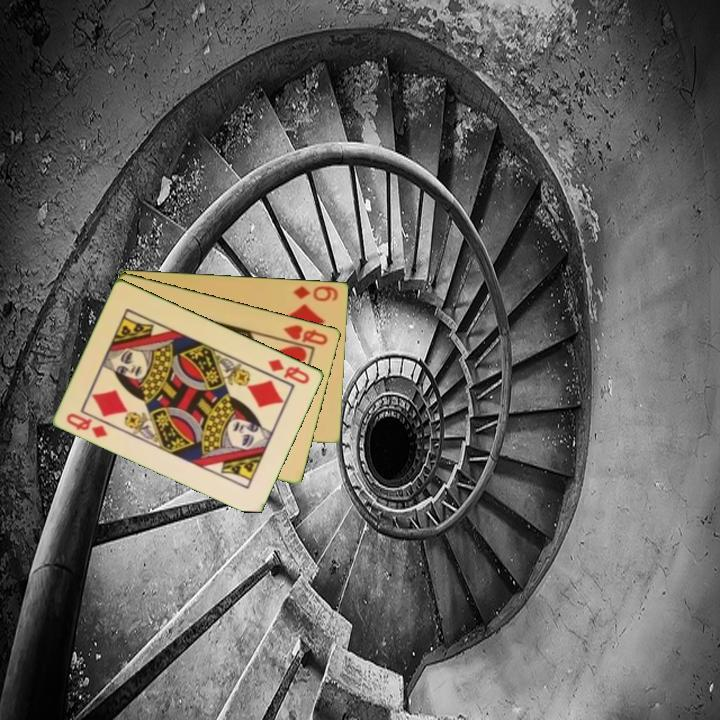6d: (290, 282, 341, 304)
Qd: (265, 355, 313, 387), (63, 409, 111, 440)
Qh: (280, 321, 331, 348)
